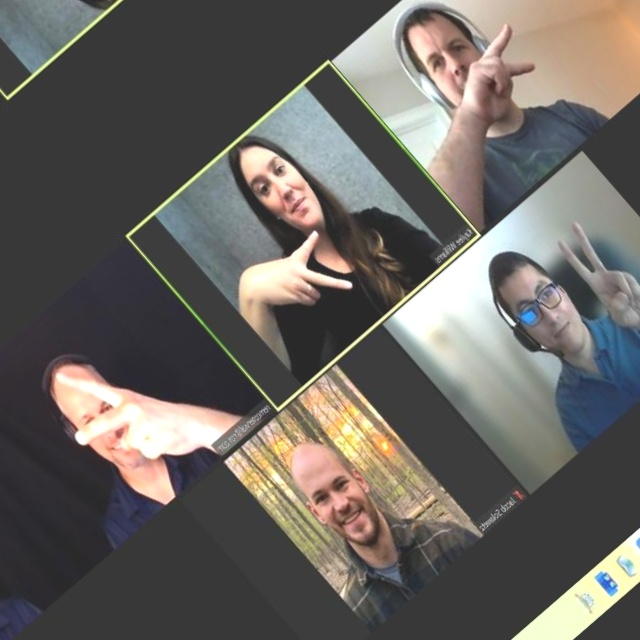Scissors: (34, 325, 204, 497), (535, 203, 640, 348), (429, 25, 551, 147), (228, 226, 336, 332)
